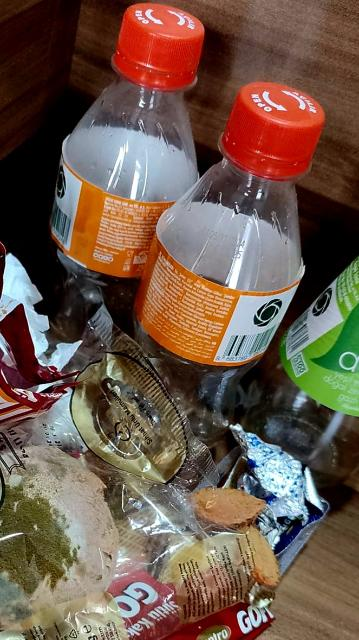Plastik: (136, 65, 314, 395), (40, 0, 201, 336), (232, 81, 321, 182), (105, 7, 206, 92)
